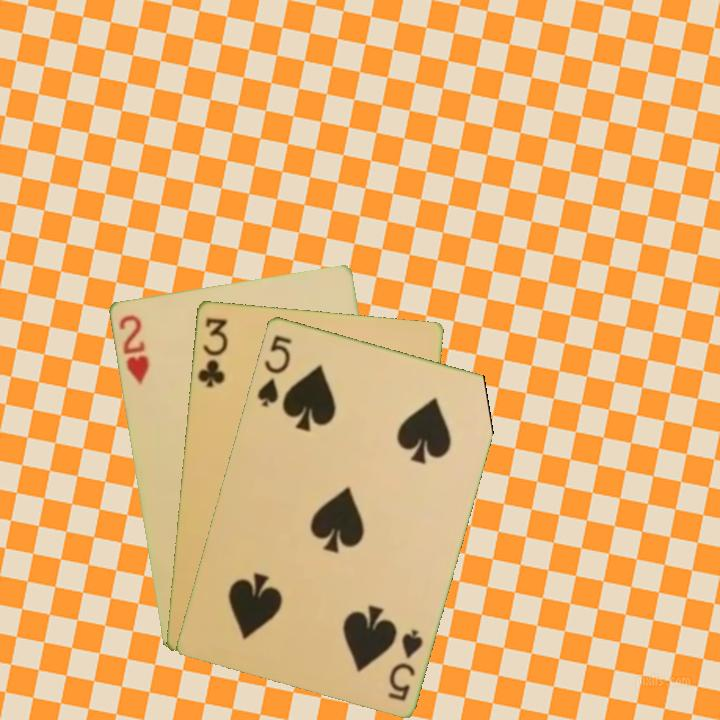2h: (115, 310, 152, 387)
3c: (194, 313, 231, 390)
5s: (384, 625, 426, 704), (253, 330, 294, 410)
